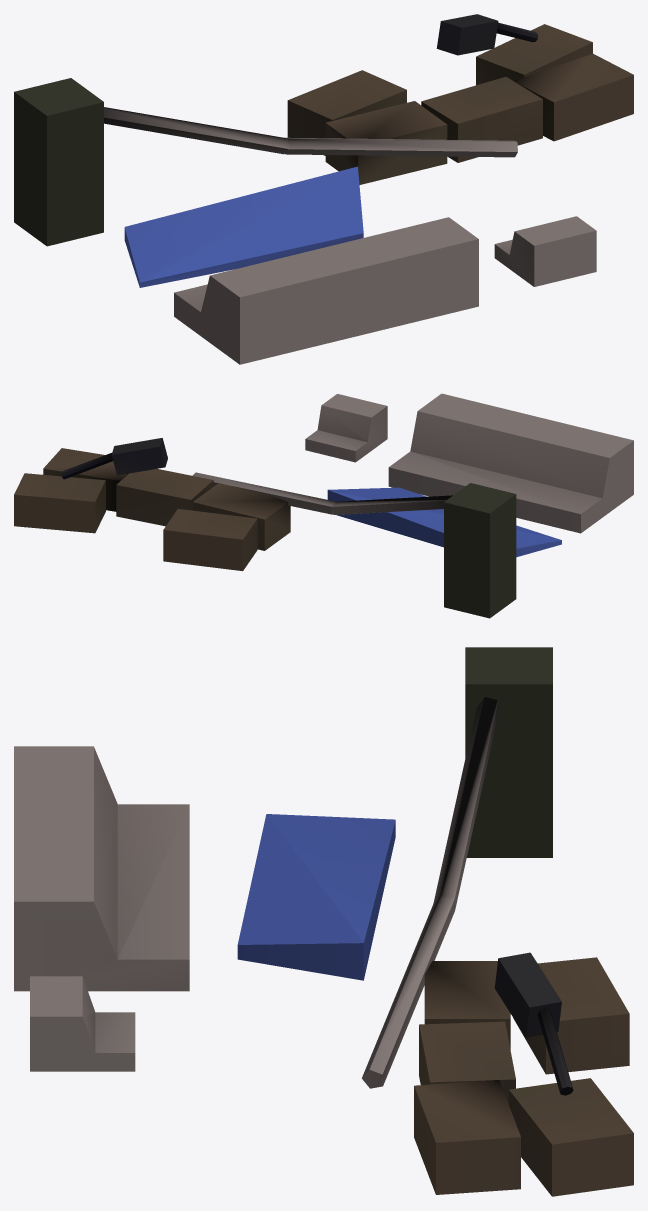
The model's file is decay.abandoned-checkpoint.lod2.glb.
3 views of the same model, one above another, from view 1: azimuth 30°, elevation 25°; view 2: azimuth 150°, elevation 25°; view 3: azimuth 270°, elevation 25° (orthographic). The views are drawn at different scales.
Parts seen in each view (by area): view 1: body; view 2: body; view 3: body.
Boxes of the visible parts, x1=… form: body: x1=14, y1=14, x2=633, y2=364; body: x1=14, y1=393, x2=633, y2=618; body: x1=14, y1=647, x2=633, y2=1196.
Bounding box in the file's own units: 5.57 × 1.2 × 3.88.
